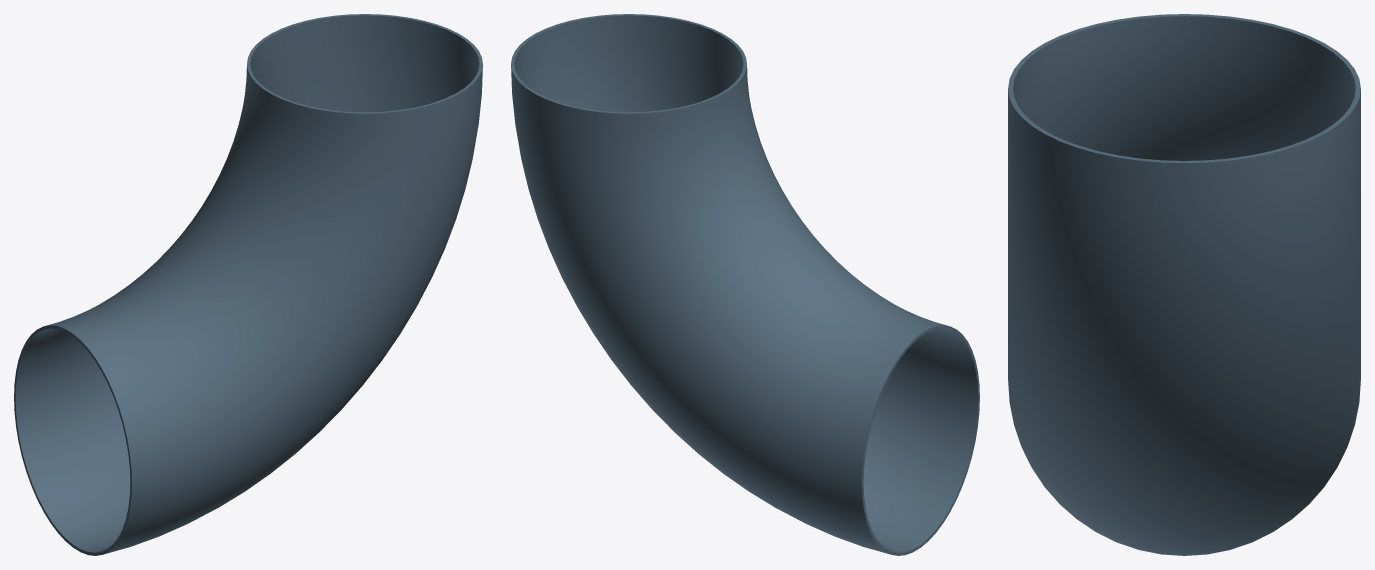
The model's file is otvod-90-630x9-R900.glb.
The picture shows the model from 3 angles, left to right: view 1: azimuth 30°, elevation 25°; view 2: azimuth 150°, elevation 25°; view 3: azimuth 270°, elevation 25°; orthographic projection. The views are drawn at different scales.
Parts seen in each view (by area): view 1: Open CASCADE STEP translator 7.9 102; view 2: Open CASCADE STEP translator 7.9 102; view 3: Open CASCADE STEP translator 7.9 102.
Boxes of the visible parts, x1,y1,x2,y2 form: Open CASCADE STEP translator 7.9 102: (14, 14, 482, 555); Open CASCADE STEP translator 7.9 102: (511, 14, 979, 555); Open CASCADE STEP translator 7.9 102: (1008, 14, 1360, 555).
Bounding box in the file's own units: 1215 × 1215 × 630.
